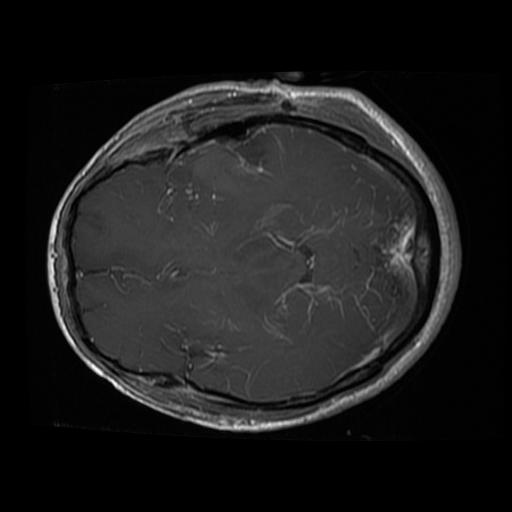glioma: (188, 128, 283, 202)
